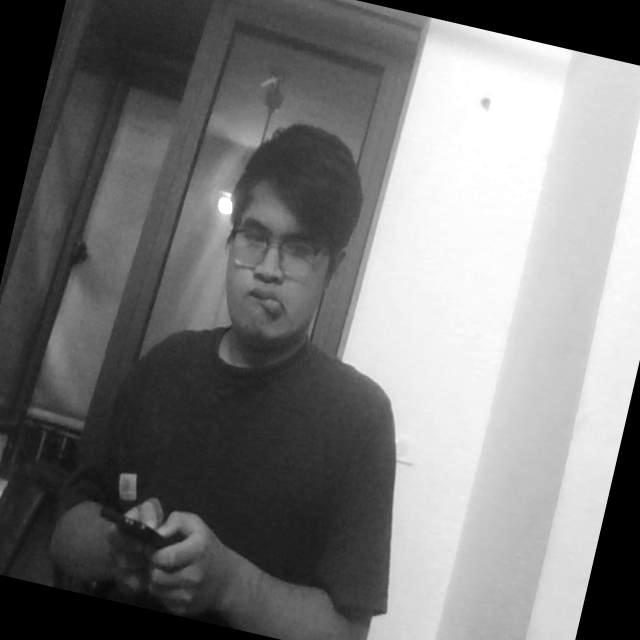phone: (72, 486, 192, 574)
